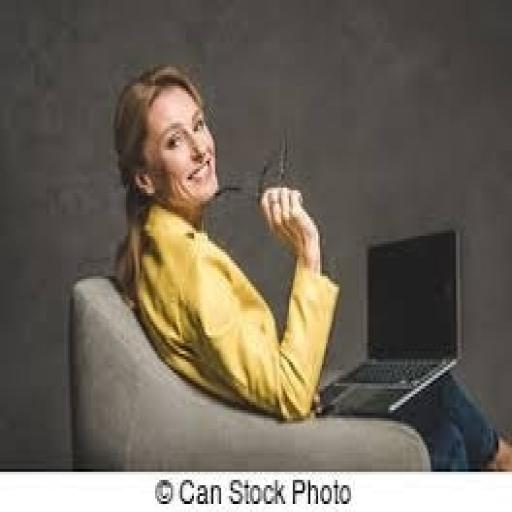using_laptop: (314, 223, 464, 418)
